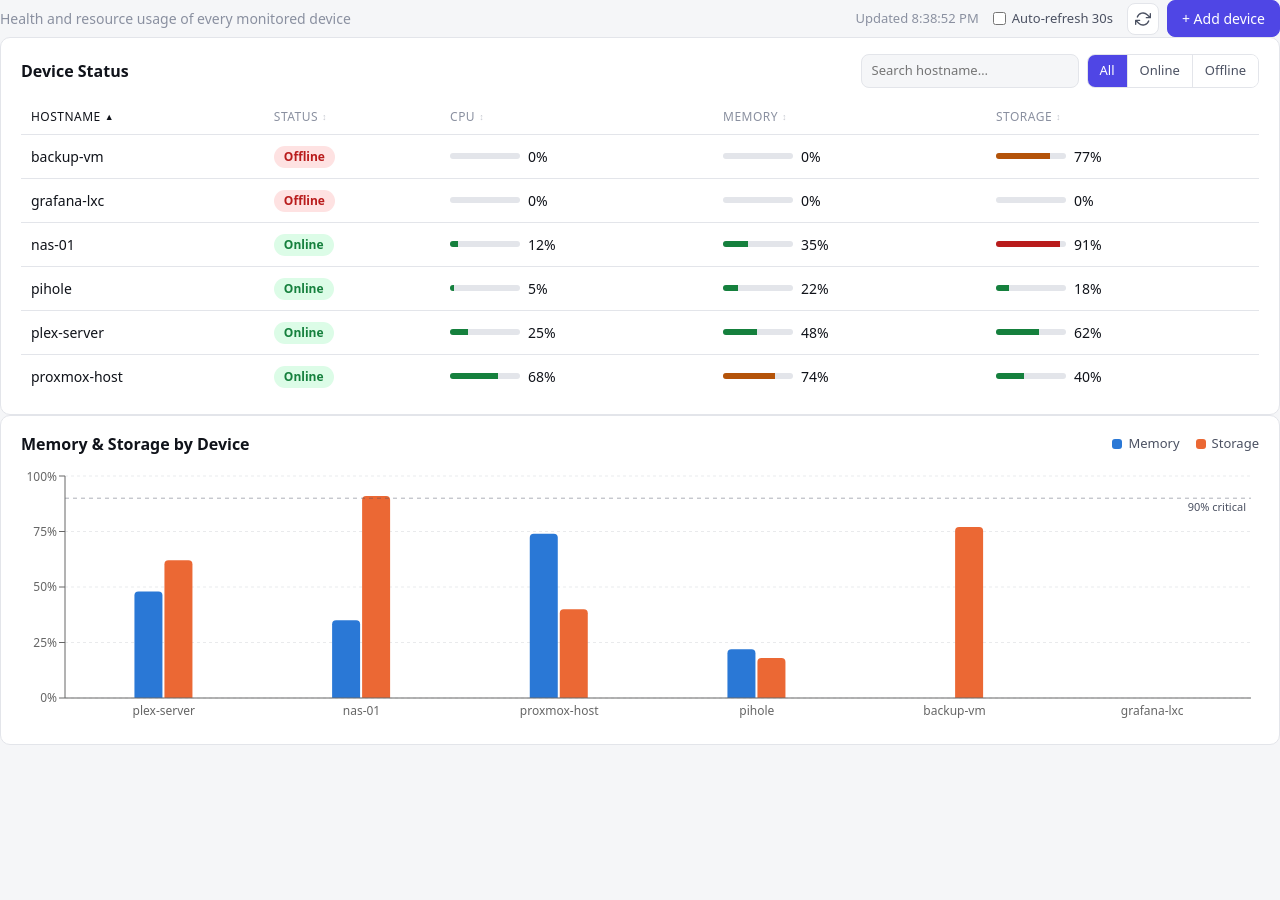
Test: Device pages › rejects a hostname with spaces before sending
The image size is (1280, 900).
Click the button "+ Add device" at (1224, 18), box [1167,0,1279,37]
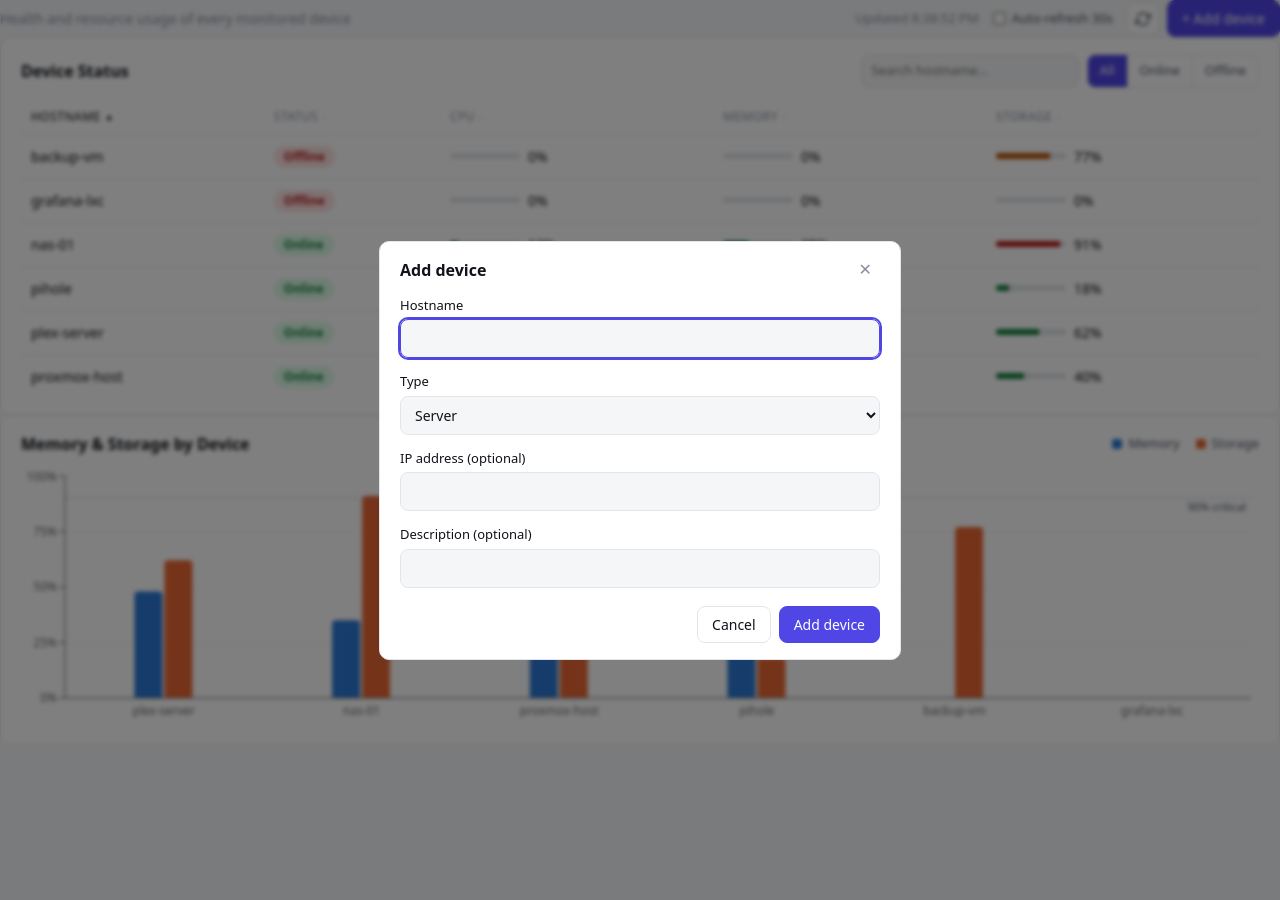
Type "my server" into the field labelled "Hostname" at (640, 338), box [400,319,880,358]
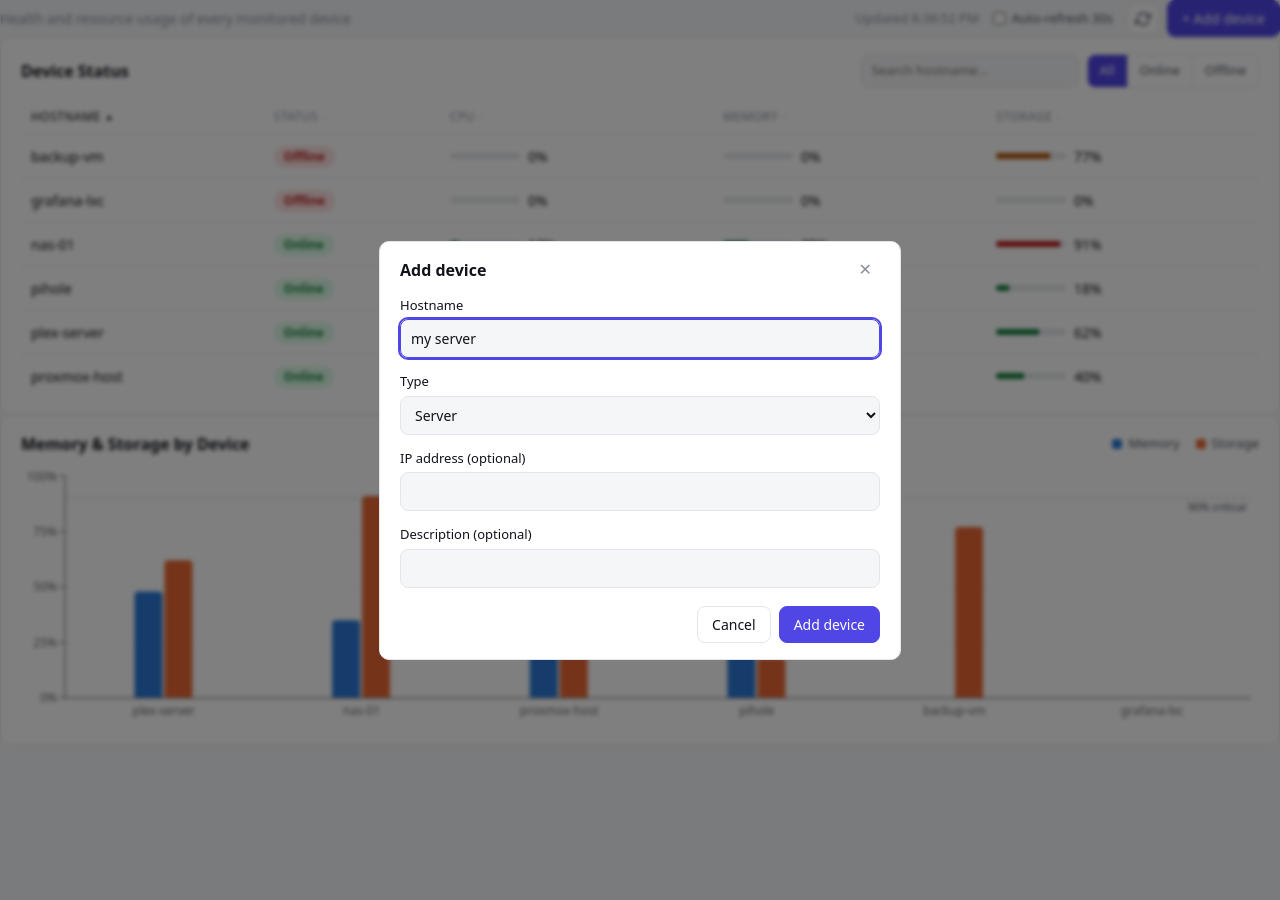
Click the button "Add device" at (829, 624), box [779,606,880,642]
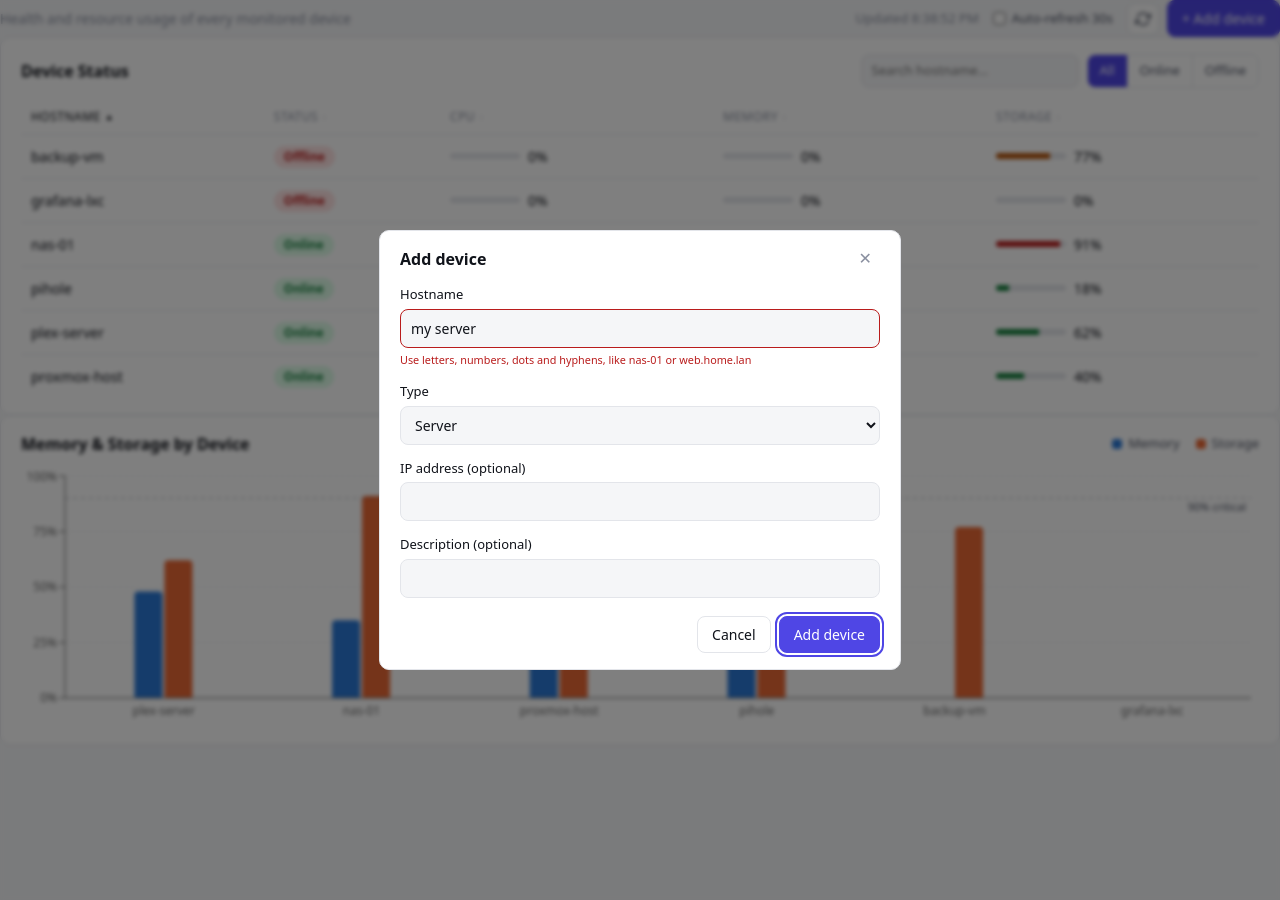
Expected: the text "Use letters, numbers, dots and hyphens" is shown, [400,352,751,367]
